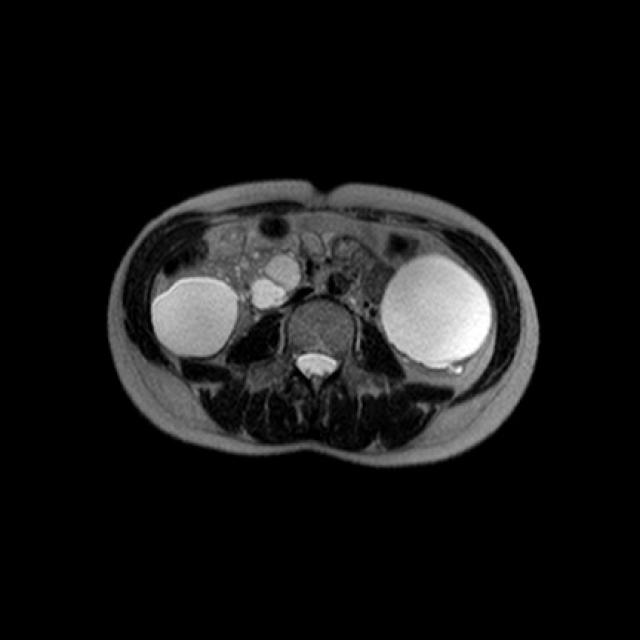sag: (151, 242, 304, 357)
sol: (377, 252, 493, 378)
